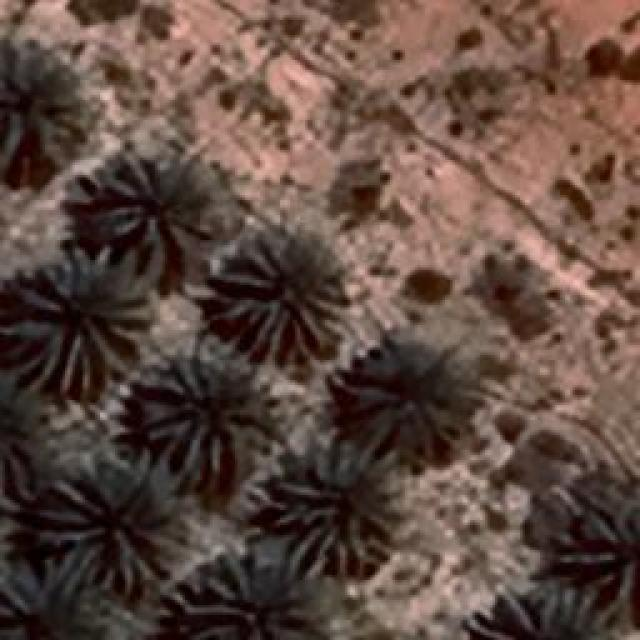PalmTree: (128, 80, 251, 595), (46, 58, 128, 611), (8, 250, 150, 395), (34, 450, 188, 580), (140, 342, 275, 480), (215, 230, 343, 368), (337, 327, 475, 455), (270, 440, 400, 575), (98, 150, 212, 255), (0, 50, 85, 170), (492, 584, 632, 638), (560, 502, 638, 590), (0, 372, 41, 490)
